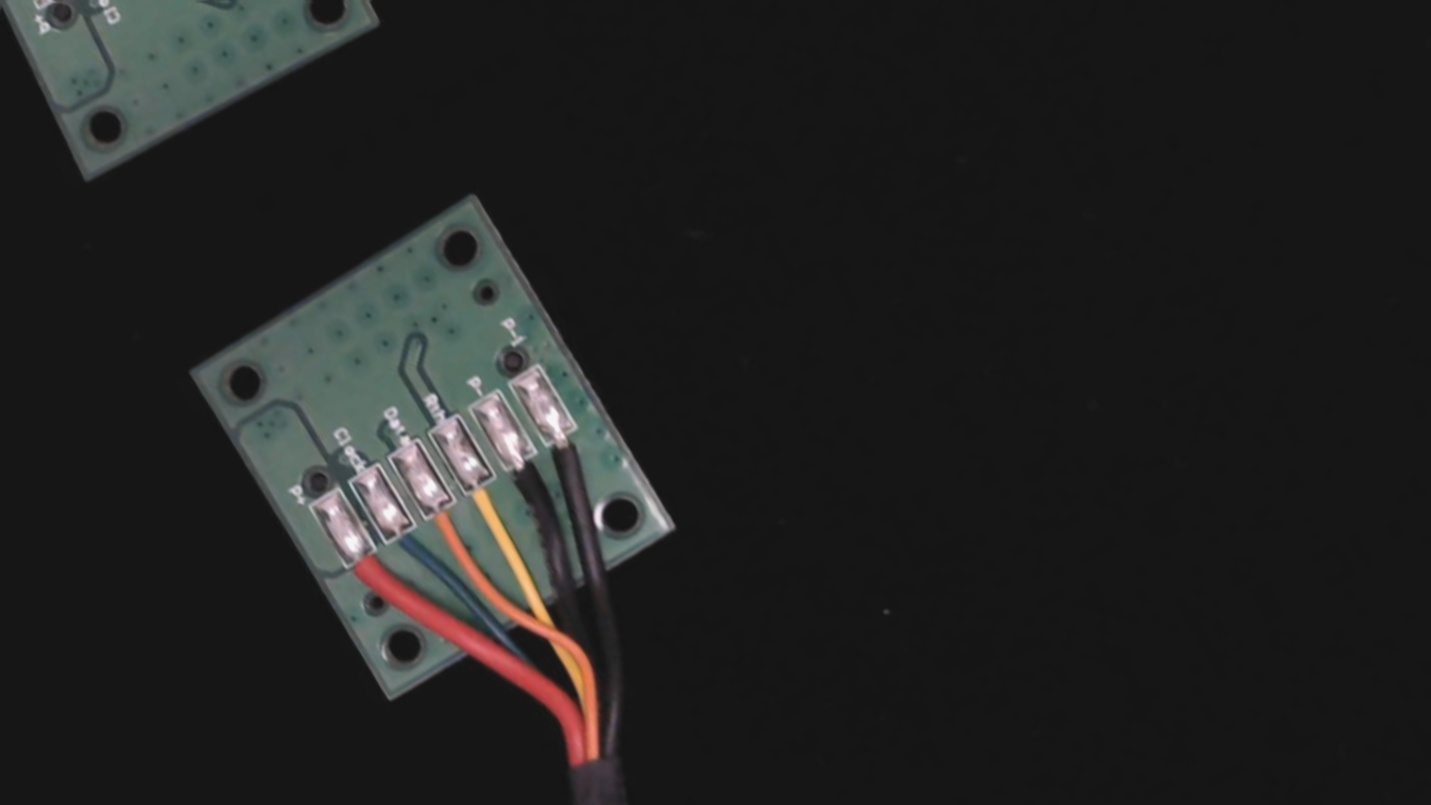Black: (486, 434, 573, 531)
Black1: (531, 410, 613, 500)
Green: (368, 506, 453, 599)
Orange: (406, 484, 490, 578)
Red: (329, 528, 414, 622)
Yellow: (447, 459, 534, 557)
